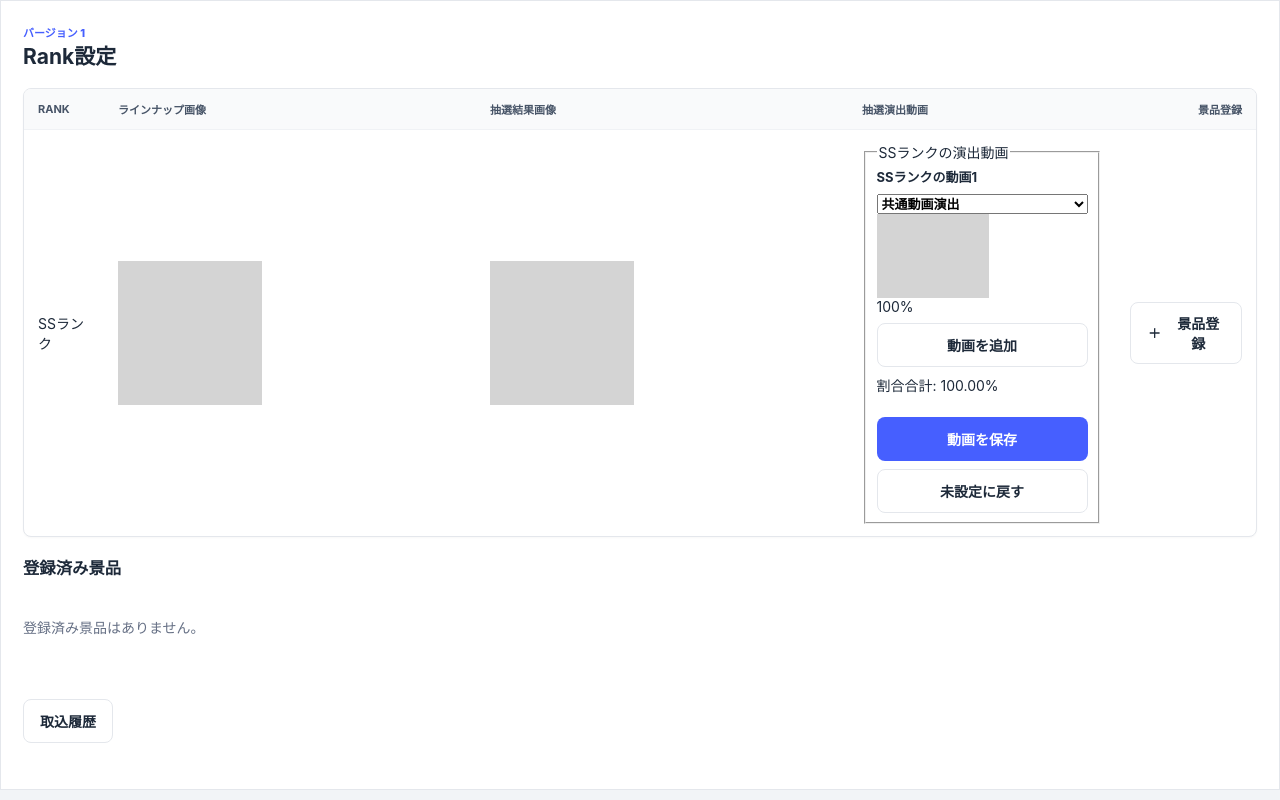
Test: Canonical Gacha Rank and Prize manager › maps the backend Prize-protected video unset error
Click the button "未設定に戻す". click: (982, 491)
box: x1=876 y1=469 x2=1088 y2=513
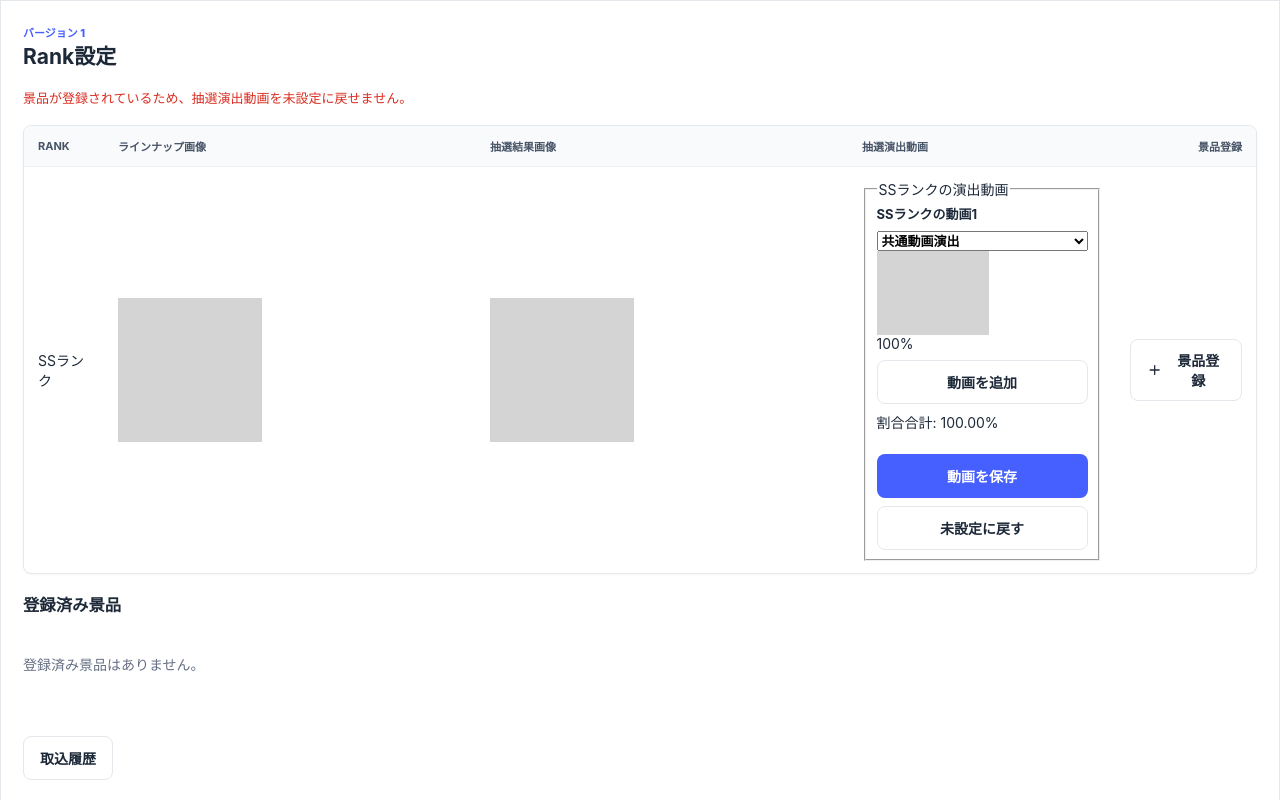
Expected: the message "景品が登録されているため、抽選演出動画を未設定に戻せません。" is shown, x1=23 y1=90 x2=412 y2=106
